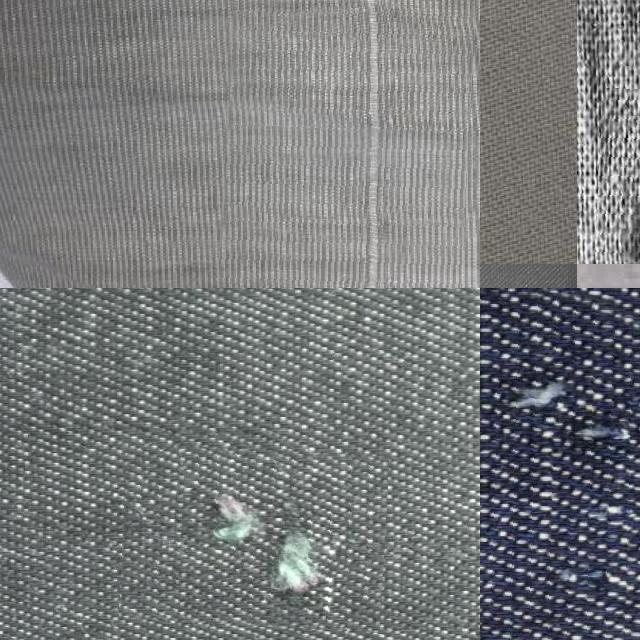Hole: (596, 89, 640, 266)
Thread_other: (221, 0, 480, 288), (480, 288, 640, 640), (120, 447, 386, 629)
